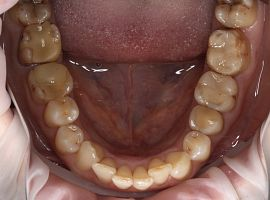LL1BC_decay: (183, 131, 212, 162)
LL1M_decay: (195, 70, 239, 110)
LL2BC_decay: (189, 105, 226, 134)
LL2M_decay: (207, 30, 250, 75)
LL3M_decay: (218, 1, 258, 29)
LLCI_decay: (133, 163, 152, 190)
LLC_healthy: (165, 152, 192, 180)
LLLI_decay: (147, 157, 171, 187)
LR1BC_decay: (54, 125, 85, 154)
LR1M_decay: (25, 63, 74, 105)
LR2BC_decay: (42, 97, 79, 128)
LR2M_decay: (18, 22, 62, 66)
LR3M_decay: (14, 6, 49, 23)
LRCI_decay: (112, 164, 133, 189)
LRC_healthy: (77, 142, 104, 171)
LRLI_healthy: (93, 158, 117, 181)
